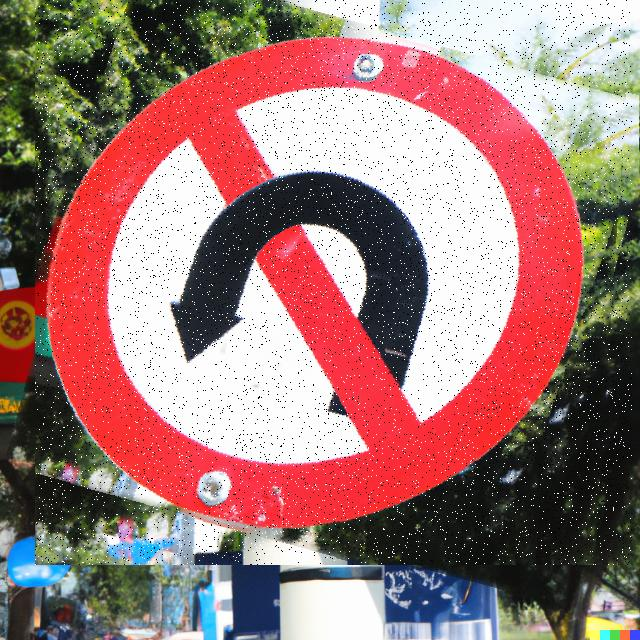no u turn: (35, 0, 632, 565)
